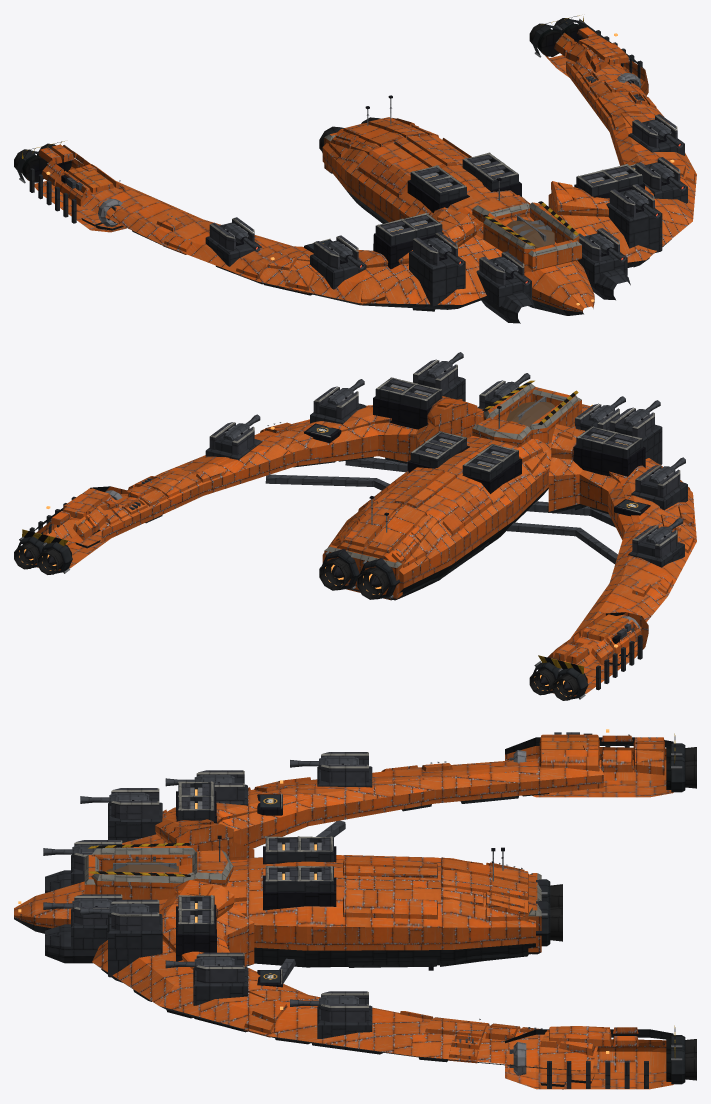
Rendered from saturn-schiff5.glb.
3 renders of one model, top to bottom at view 1: azimuth 30°, elevation 25°; view 2: azimuth 150°, elevation 25°; view 3: azimuth 270°, elevation 25°, orthographic. The views are drawn at different scales.
Parts seen in each view (by area): view 1: Hull_LOD0; view 2: Hull_LOD0; view 3: Hull_LOD0, Laser_05, Laser_03, Laser_04.
Part boxes in pixels (<box>): Hull_LOD0: <box>14,15,696,323</box>; Hull_LOD0: <box>14,359,696,700</box>; Hull_LOD0: <box>14,729,696,1089</box>; Laser_05: <box>165,956,234,970</box>; Laser_03: <box>80,903,149,917</box>; Laser_04: <box>80,792,149,805</box>.
Size of the model in its own units: 78.75 by 15.15 by 70.4.
Materials: 6 (4 with a texture image).
